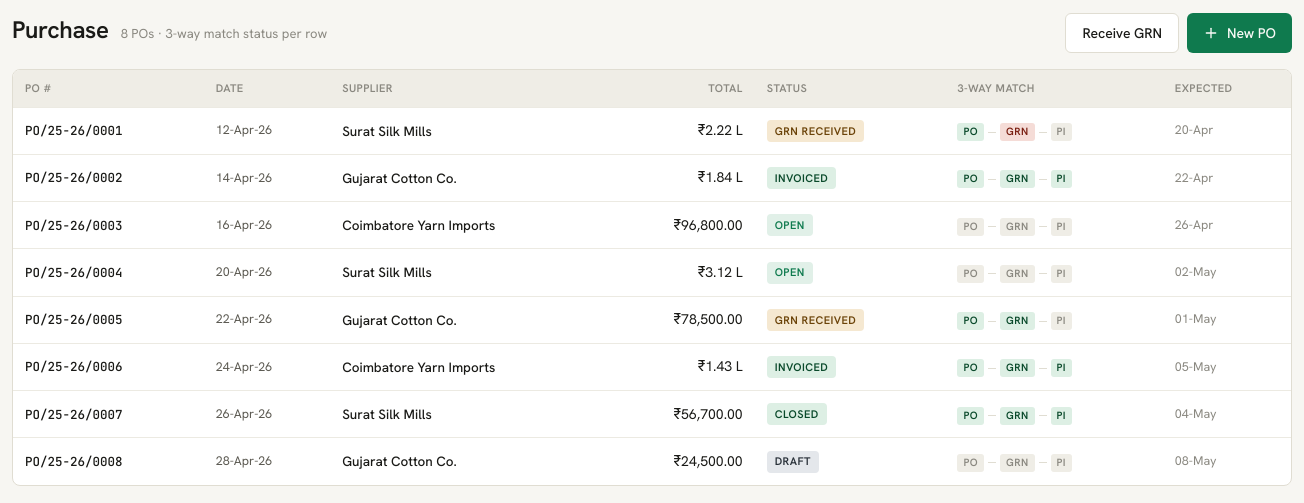
Test: Purchase Order flow › list "+ New PO" button routes to /purchase/new
Expected: the text "PO/25-26/0001" is shown, [25,122,122,139]
Click the button "New PO".
click(1240, 33)  # box [1187,13,1292,53]
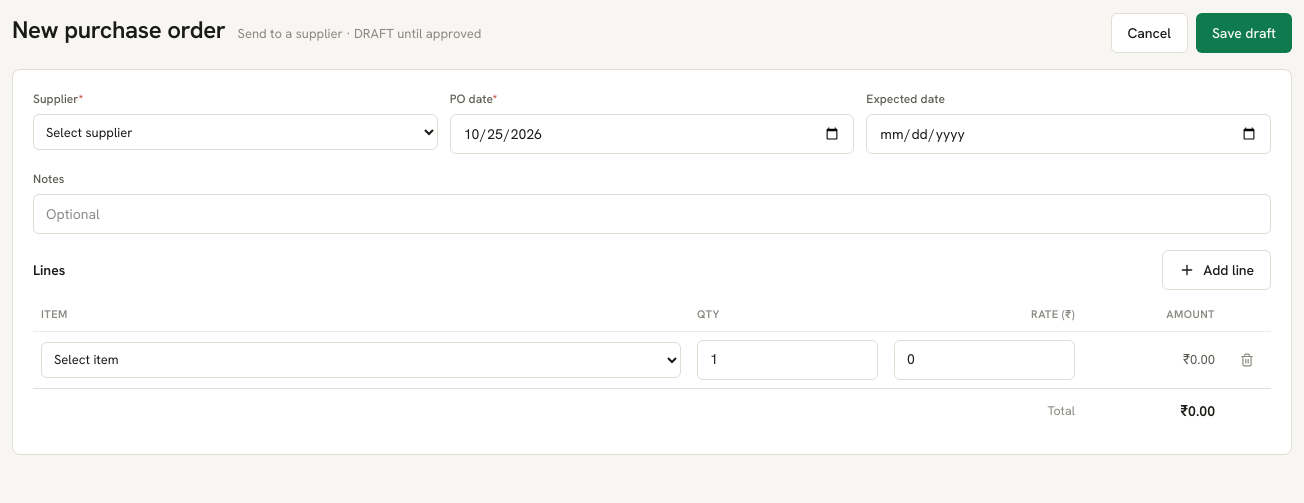
Expected: the heading "New purchase order" is shown, [12,12,226,48]
